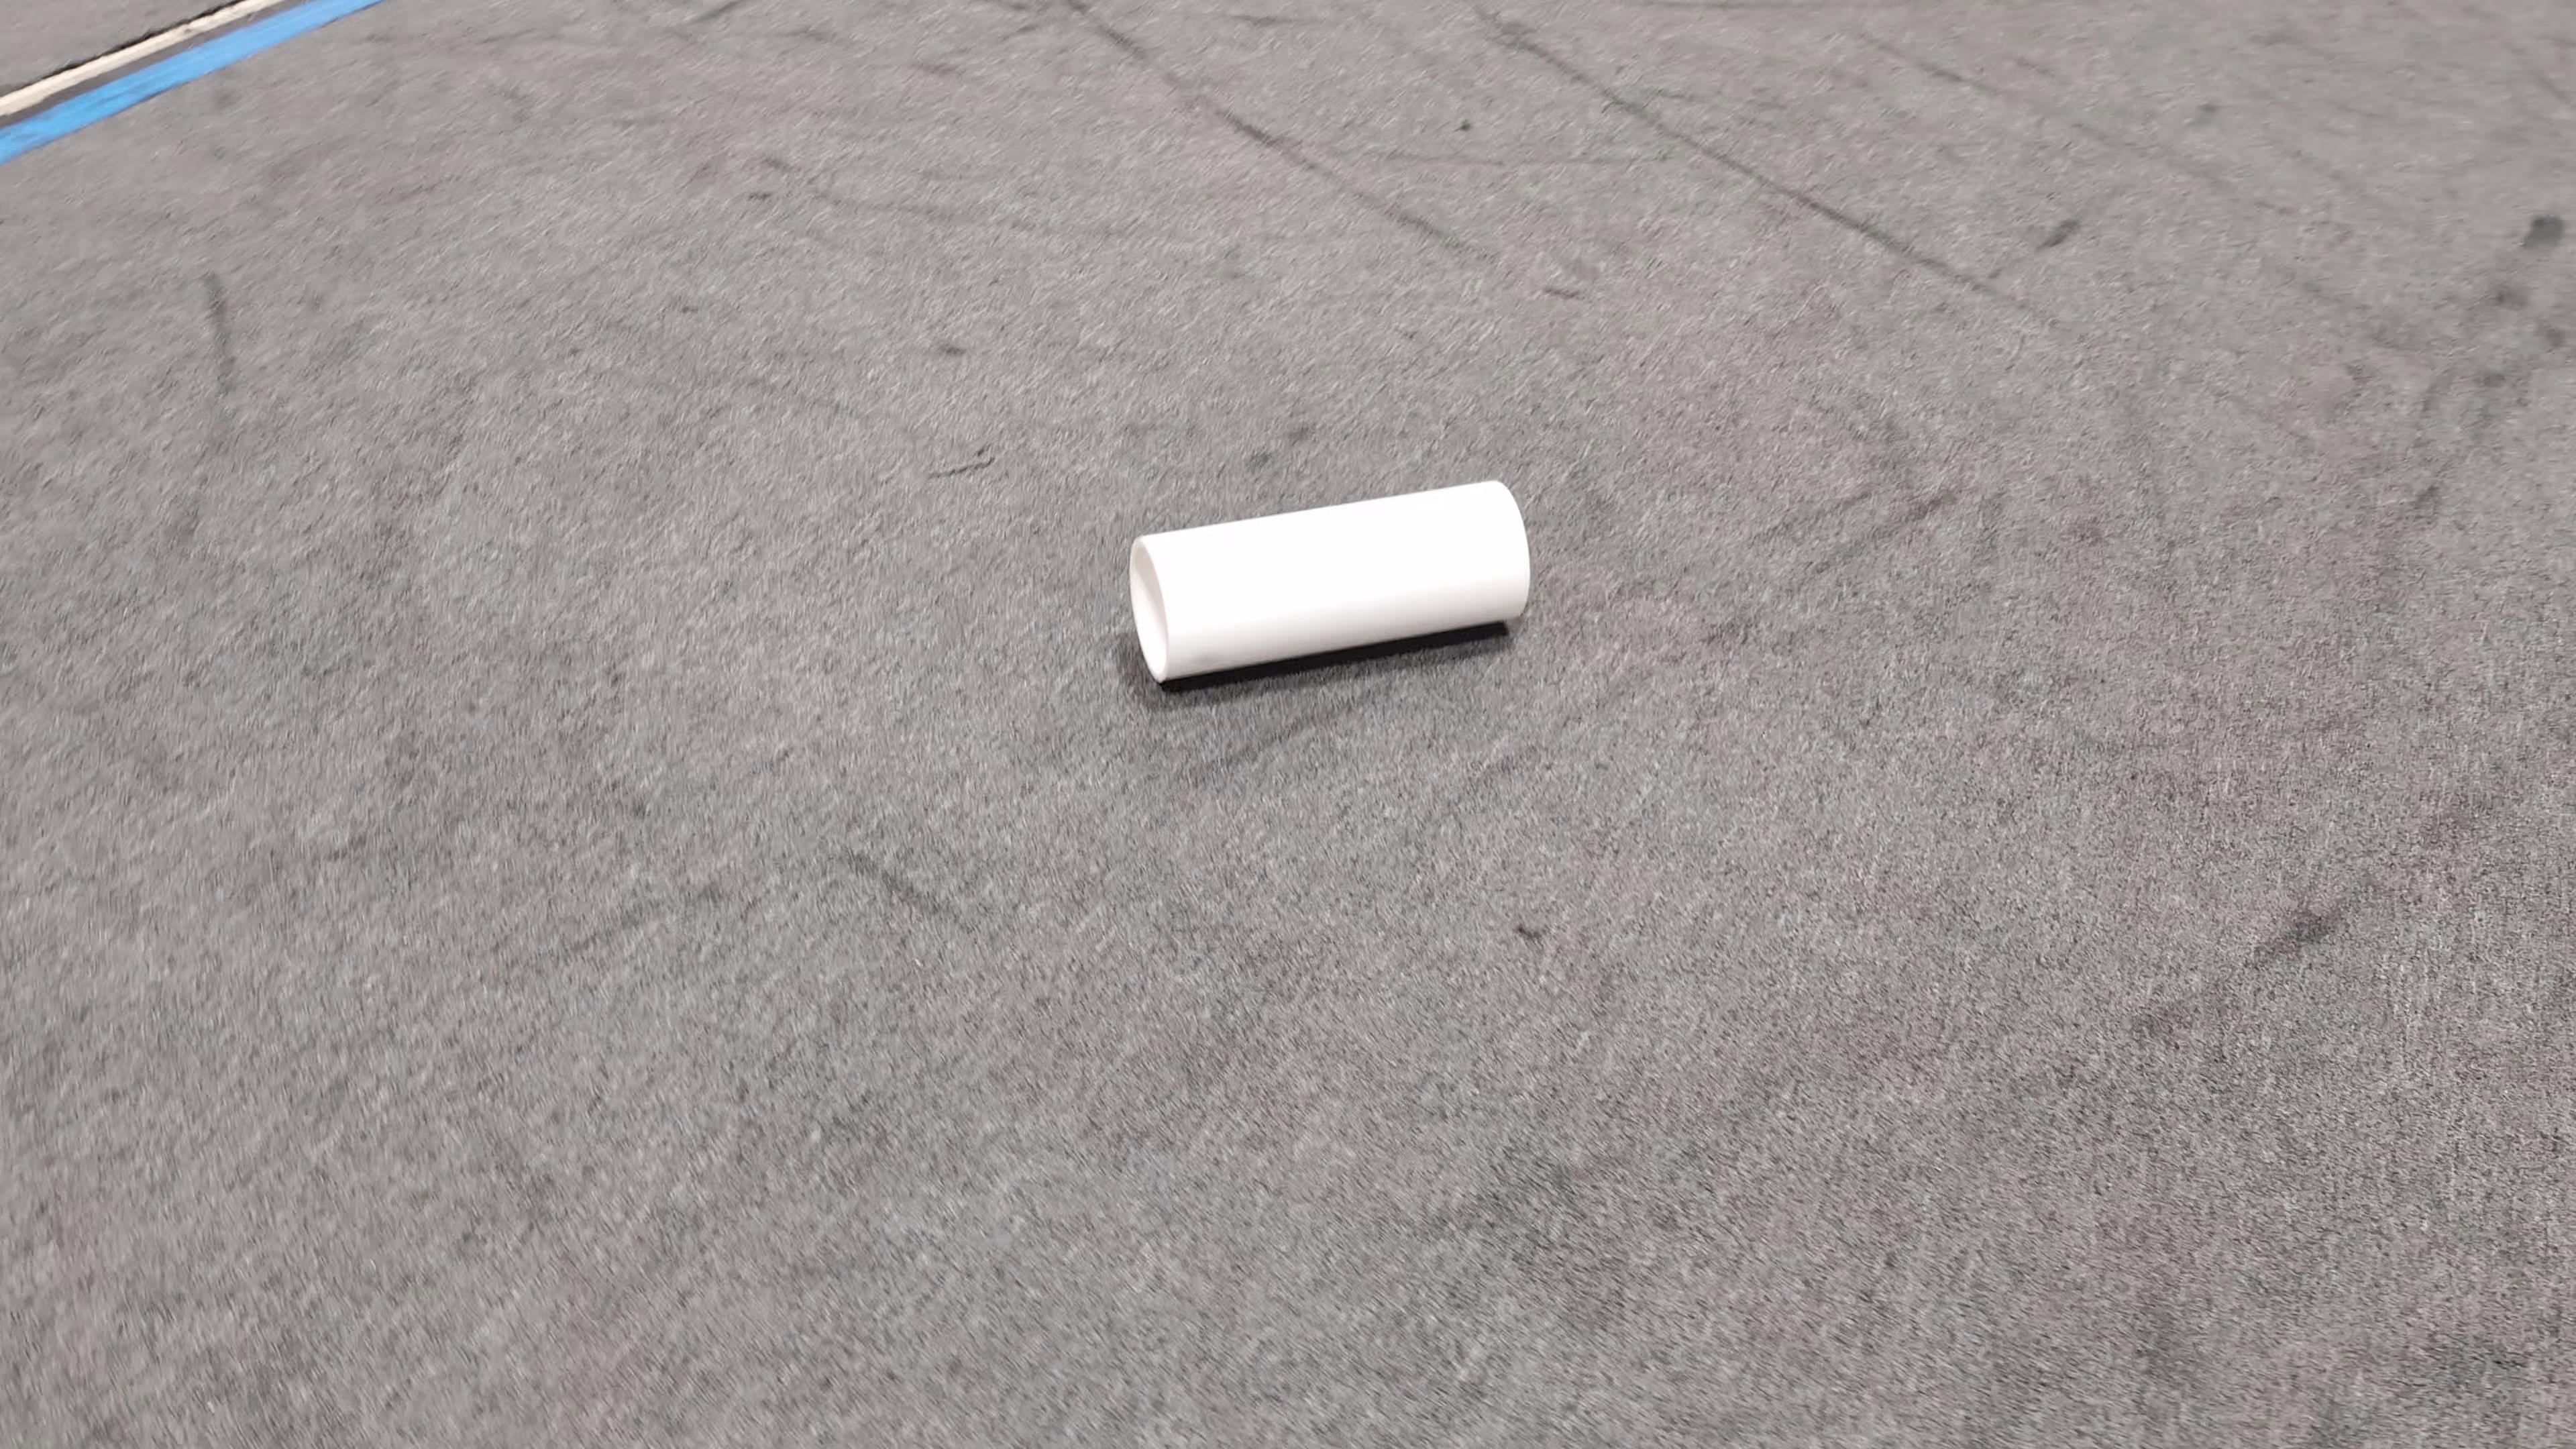coral: (1127, 476, 1532, 685)
